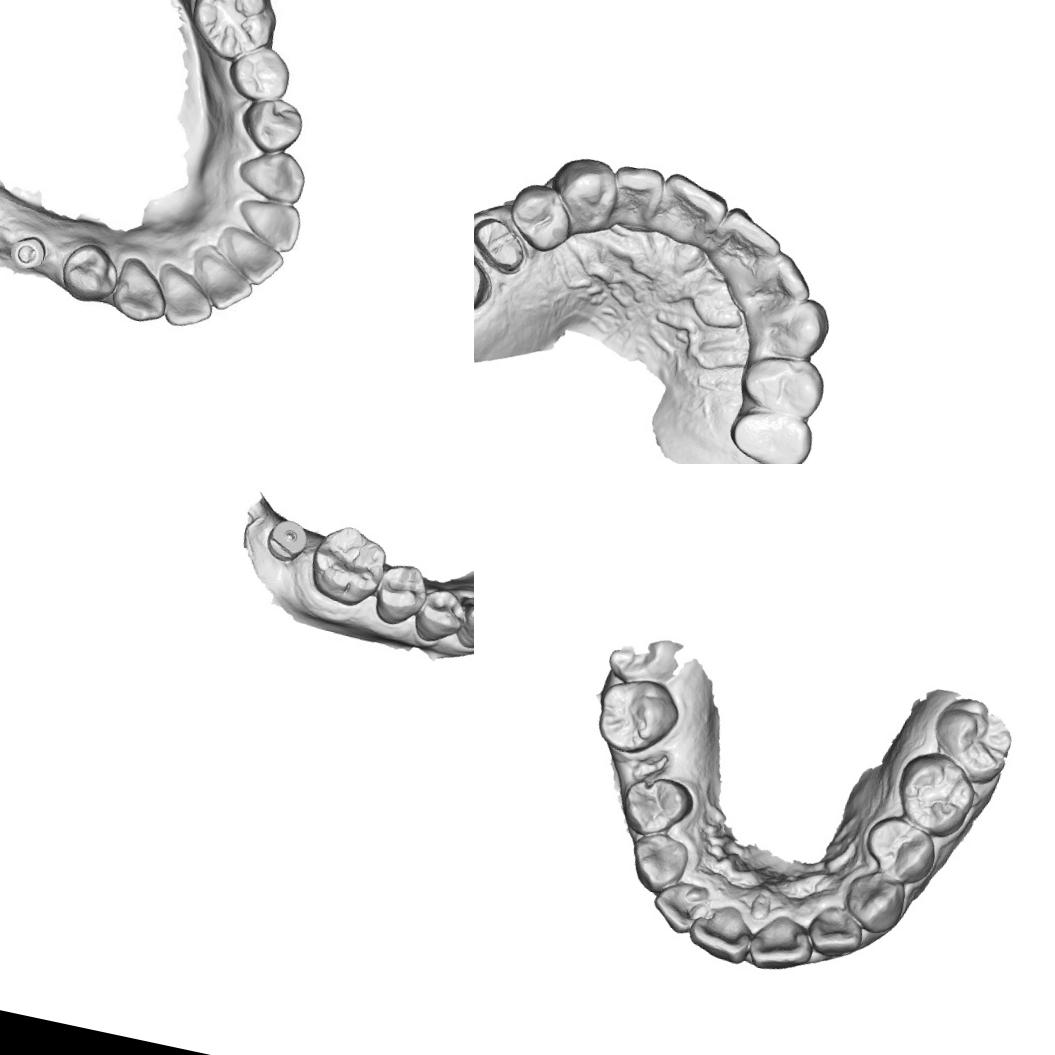canine: (546, 150, 623, 232), (230, 138, 316, 208), (105, 255, 176, 334), (840, 867, 910, 938), (624, 827, 692, 900), (767, 290, 834, 363), (455, 593, 474, 657)
crown: (474, 212, 533, 277), (474, 235, 500, 327)
implant: (262, 514, 312, 567), (2, 228, 48, 276)
incisor: (652, 168, 734, 242), (712, 202, 789, 274), (213, 224, 290, 290), (744, 912, 817, 980), (680, 903, 756, 967), (192, 244, 260, 314), (152, 265, 216, 333), (604, 161, 669, 225), (648, 876, 712, 938), (238, 195, 303, 256), (804, 902, 866, 962), (759, 250, 820, 306)
molar: (588, 669, 688, 764), (926, 689, 1020, 790), (301, 518, 394, 612), (892, 748, 980, 838), (191, 0, 279, 61)
premolar: (736, 348, 829, 422), (615, 768, 700, 844), (860, 812, 944, 887), (504, 179, 580, 256), (723, 404, 819, 464), (56, 235, 126, 312), (368, 559, 432, 632), (408, 581, 471, 649), (245, 88, 306, 158), (232, 43, 292, 100)
